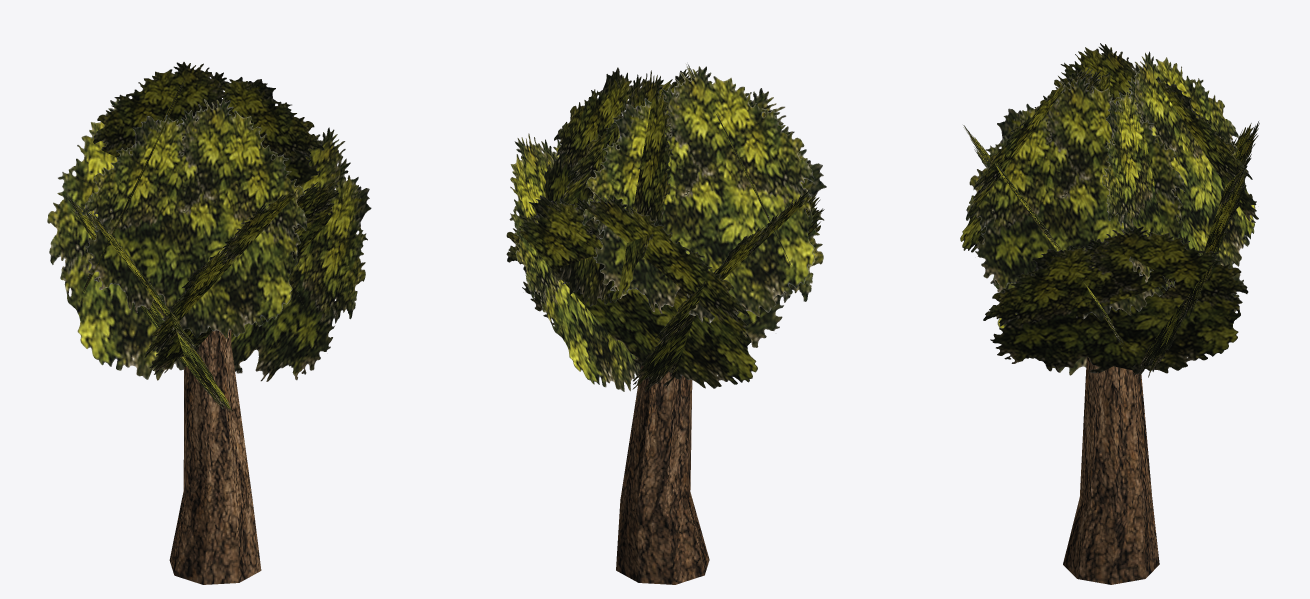
File: tree_1.fbx
3 views of the same model, side by side, from view 1: azimuth 30°, elevation 25°; view 2: azimuth 150°, elevation 25°; view 3: azimuth 270°, elevation 25° (orthographic). The views are drawn at different scales.
Visible parts, largest first — view 1: tree_1; view 2: tree_1; view 3: tree_1.
Part boxes in pixels (x1,y1,x2,y2): tree_1: (47,62,371,584); tree_1: (506,64,826,584); tree_1: (960,43,1259,584).
Bounding box in the file's own units: 6.29 × 9.94 × 6.38.
